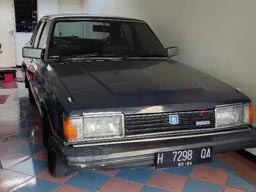plat: (155, 146, 214, 162)
